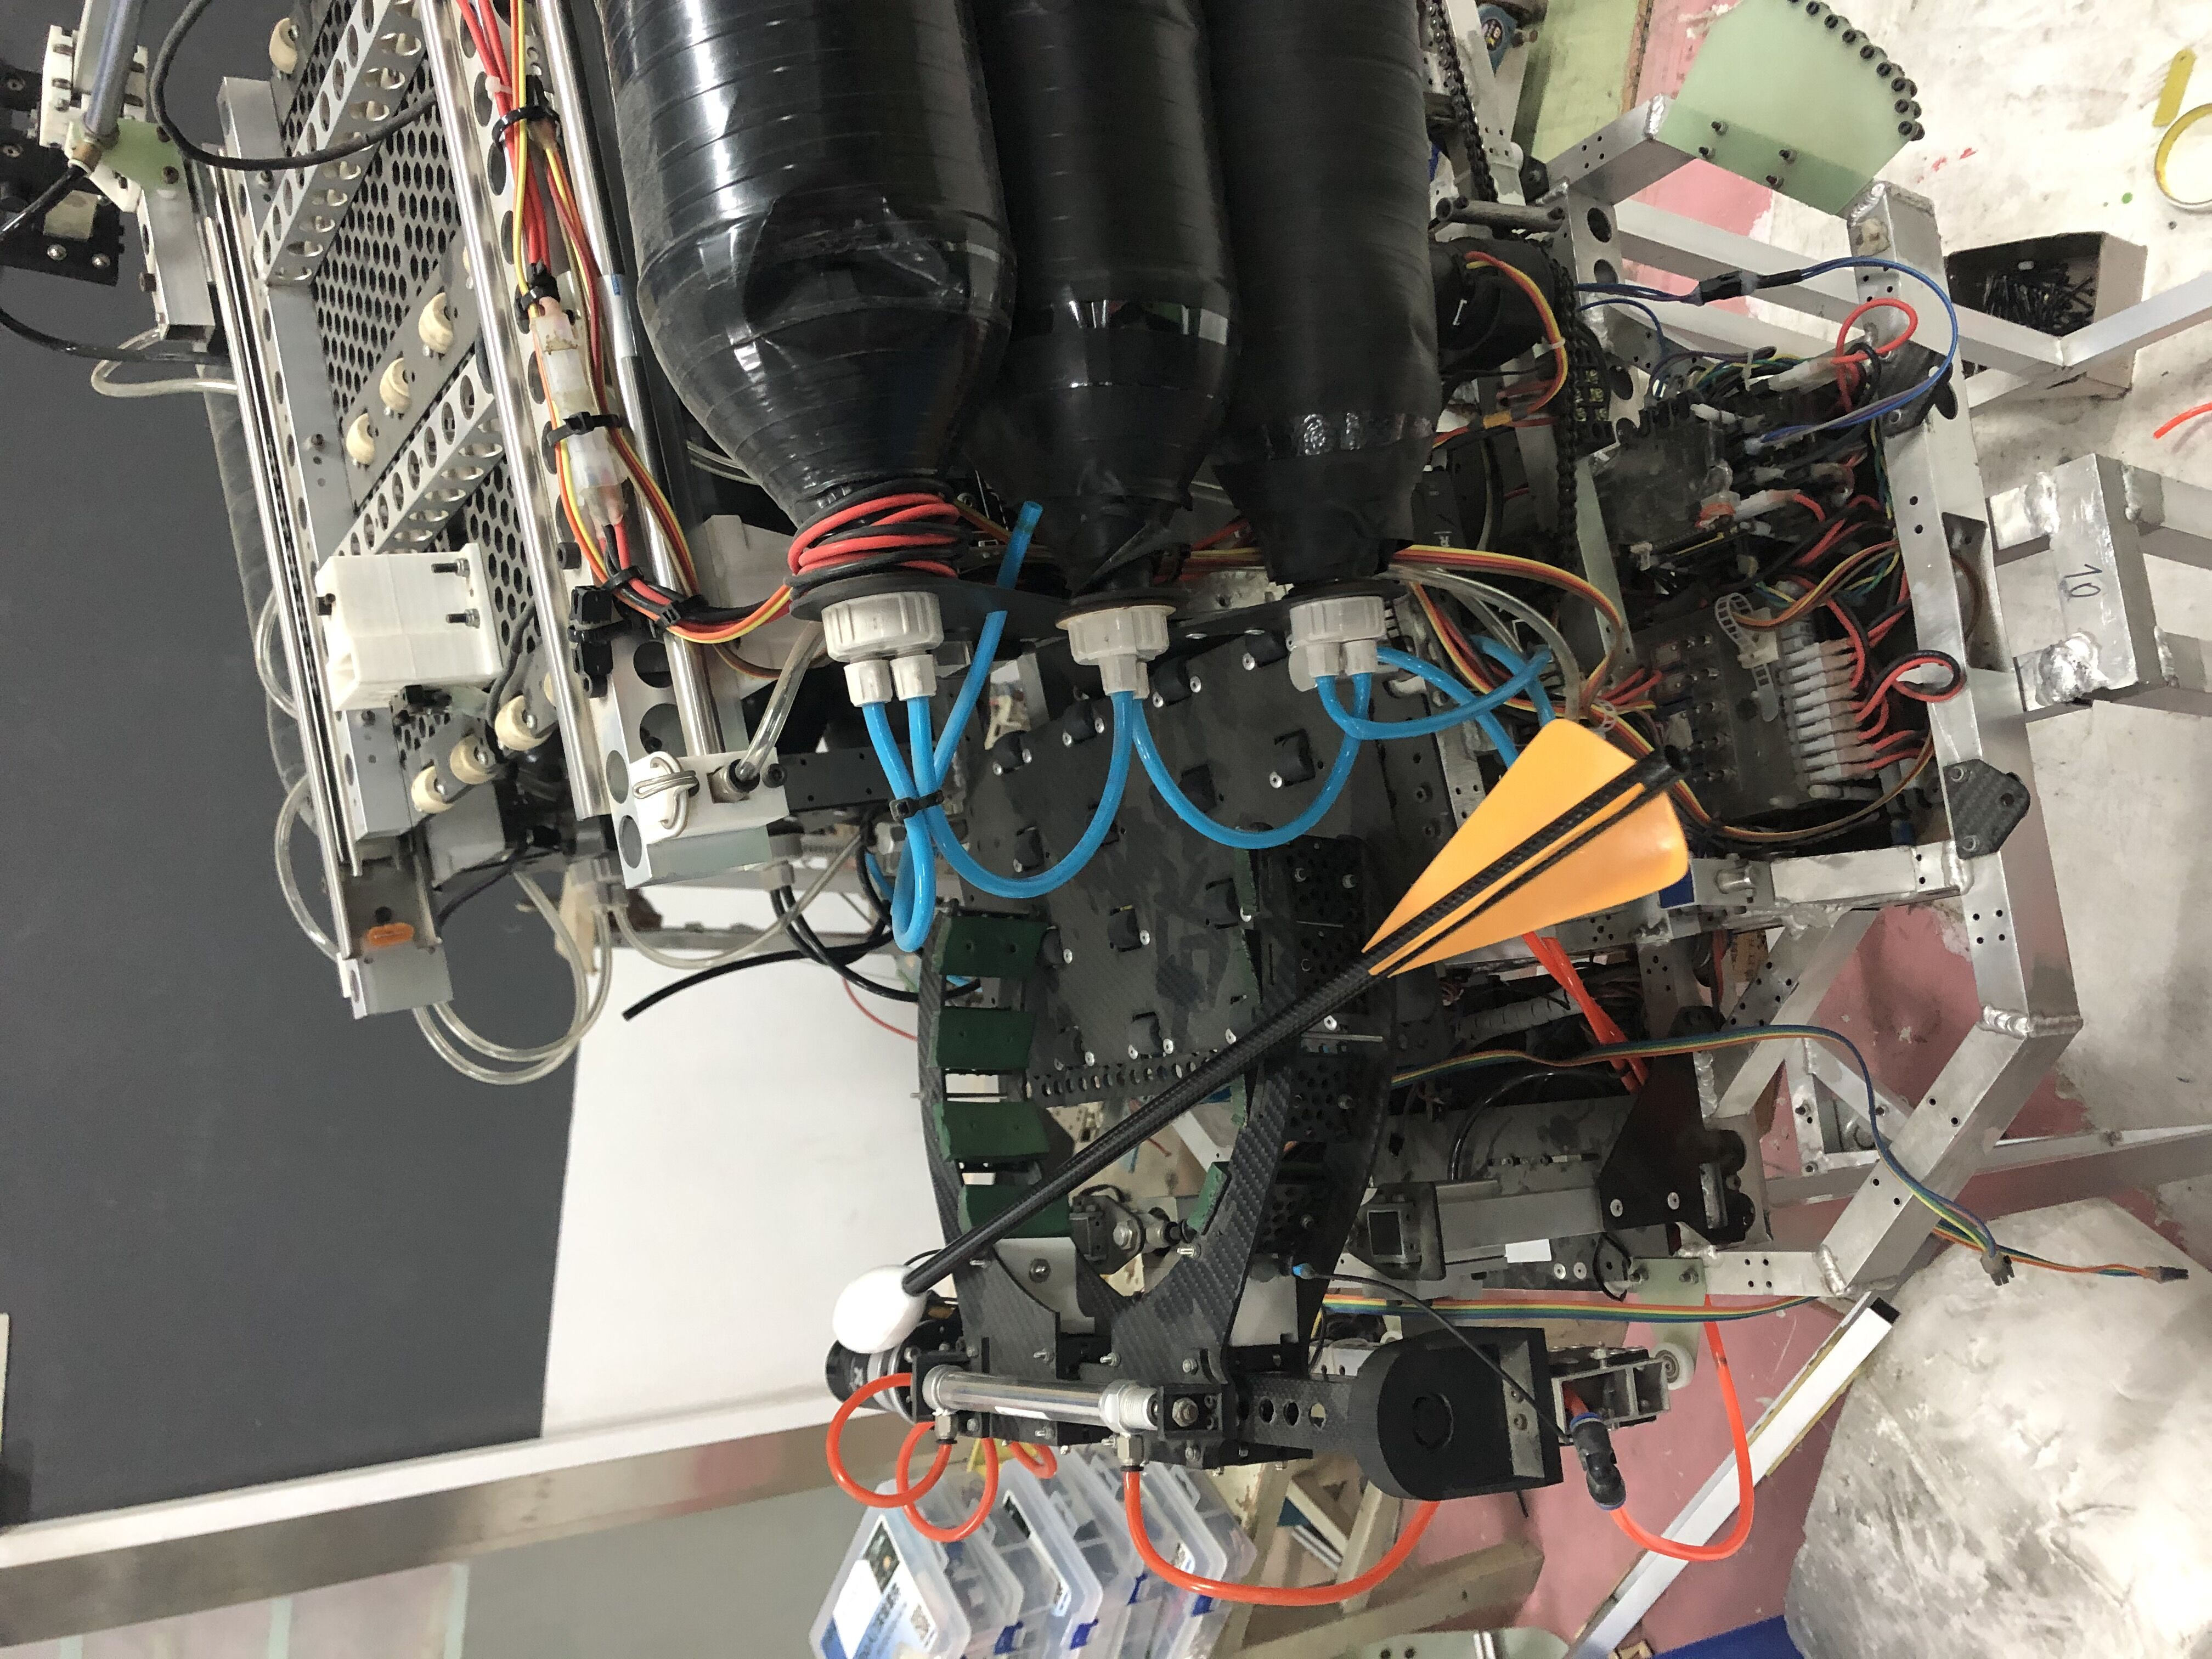arrow: (824, 709, 1702, 1364)
arrowFront: (827, 1260, 930, 1358)
